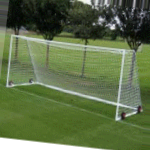goals: (7, 34, 145, 122)
